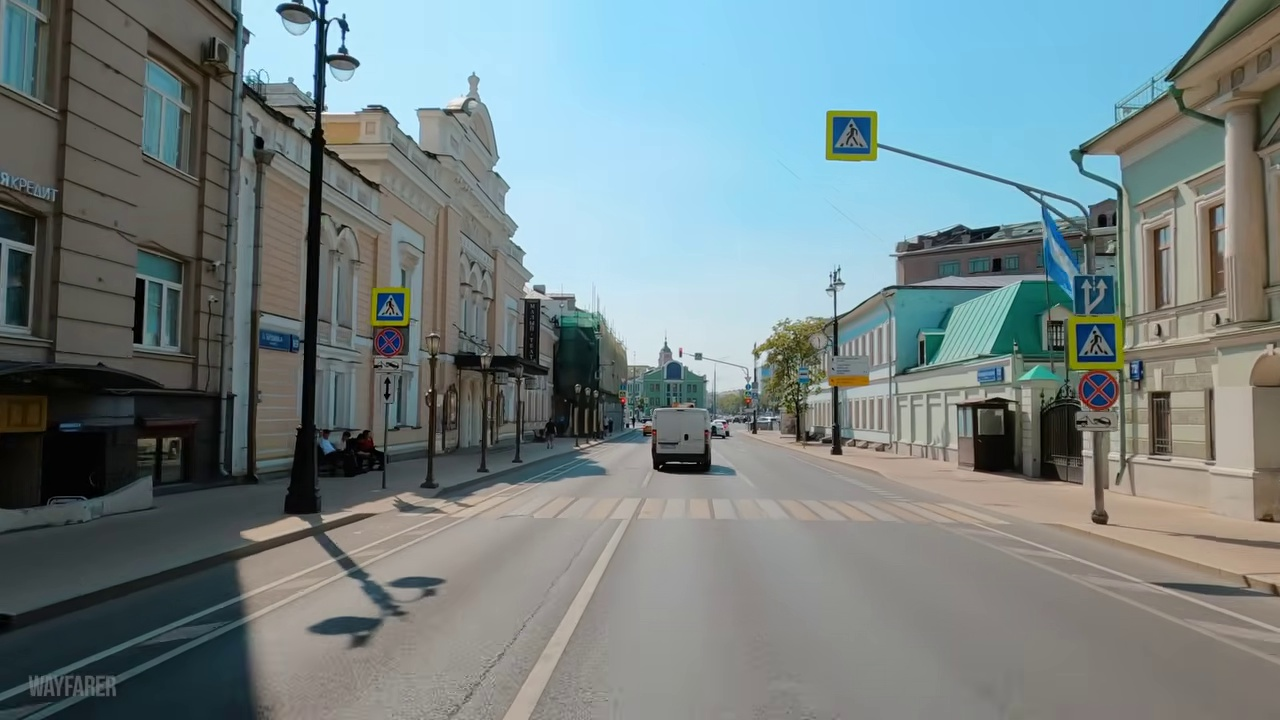apagada: (269, 0, 359, 80)
